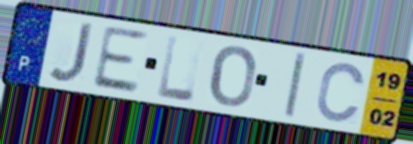C: (314, 60, 368, 125)
E: (89, 23, 149, 95)
I: (281, 51, 309, 121)
J: (46, 21, 97, 85)
L: (156, 33, 197, 104)
O: (208, 44, 258, 109)
